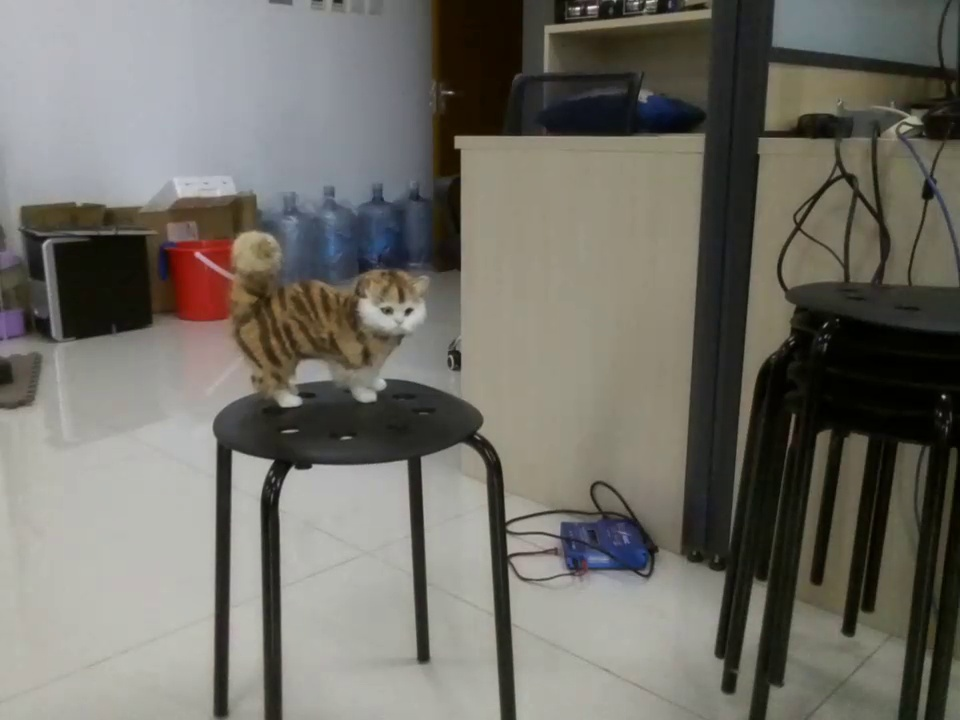cat: (225, 229, 436, 413)
